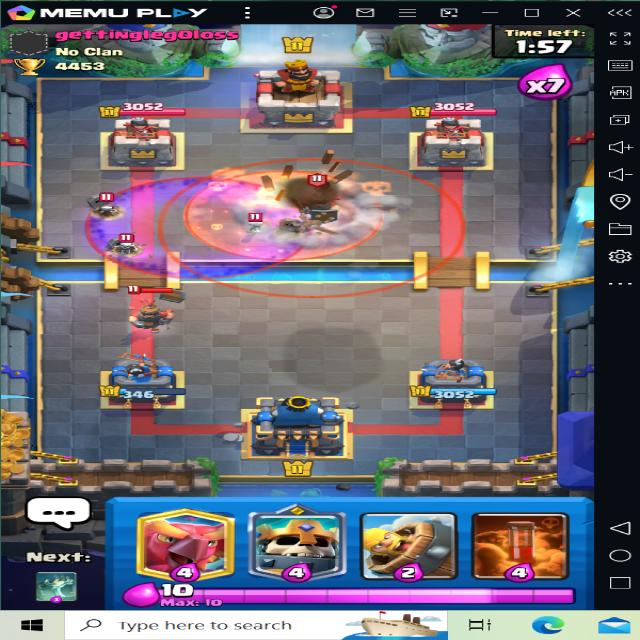graveyard: (86, 171, 308, 274)
poison: (179, 166, 368, 259)
royal-recruits: (287, 178, 346, 232), (123, 283, 176, 333)
skeleton: (110, 227, 152, 254), (231, 209, 269, 234), (95, 190, 128, 212)
tornado: (162, 156, 464, 292)
